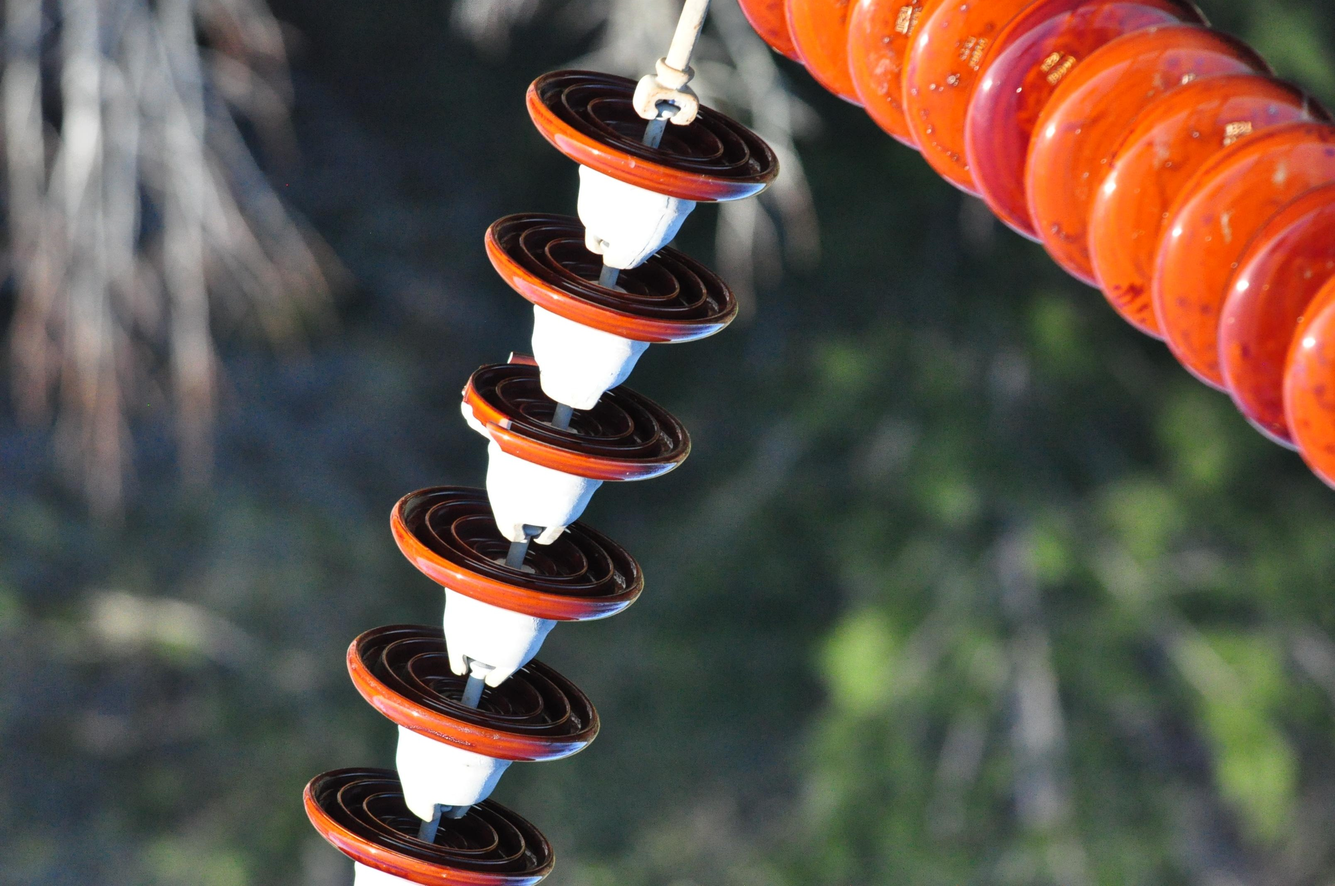damaged: (461, 345, 533, 450)
insulator: (298, 57, 781, 886), (740, 0, 1335, 479)
